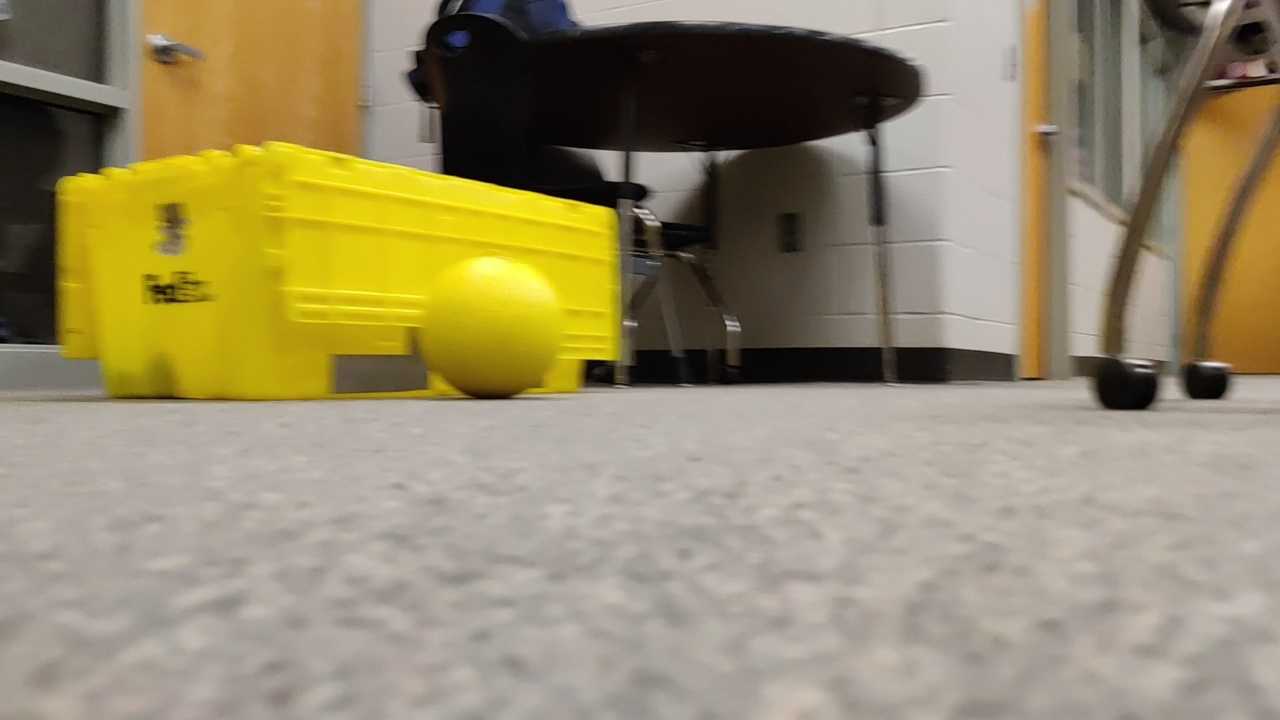Ball: (415, 245, 573, 399)
